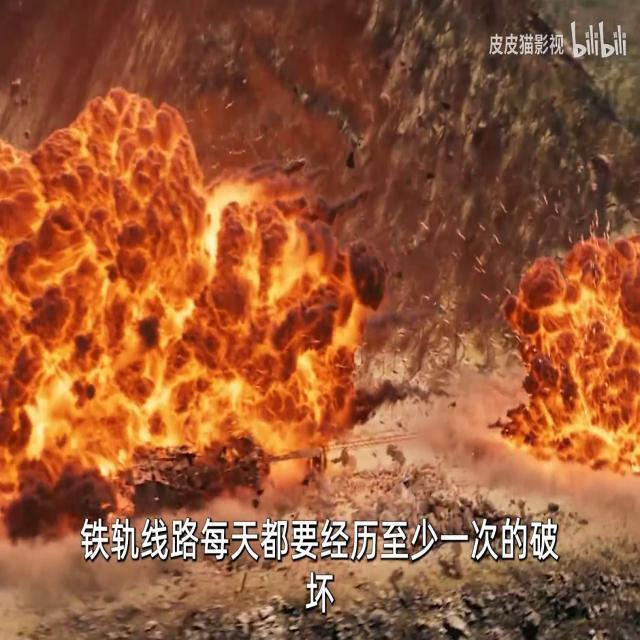fire: (0, 82, 373, 457), (484, 224, 640, 462)
